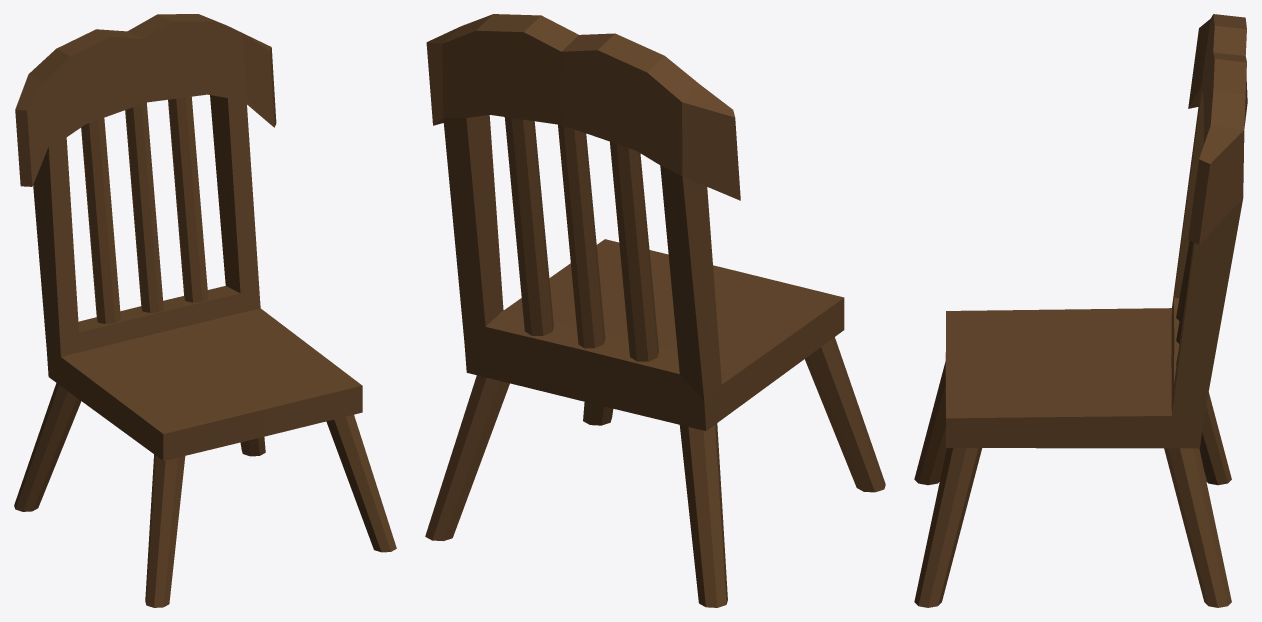
The model's file is chair2.fbx.
3 views of the same model, side by side, from view 1: azimuth 30°, elevation 25°; view 2: azimuth 150°, elevation 25°; view 3: azimuth 270°, elevation 25° (orthographic). The views are drawn at different scales.
Parts seen in each view (by area): view 1: Cube; view 2: Cube; view 3: Cube.
Boxes of the visible parts, x1,y1,x2,y2 form: Cube: (14,14,396,607); Cube: (425,14,885,607); Cube: (914,14,1247,607).
Bounding box in the file's own units: 2.73 × 4.59 × 2.78.
